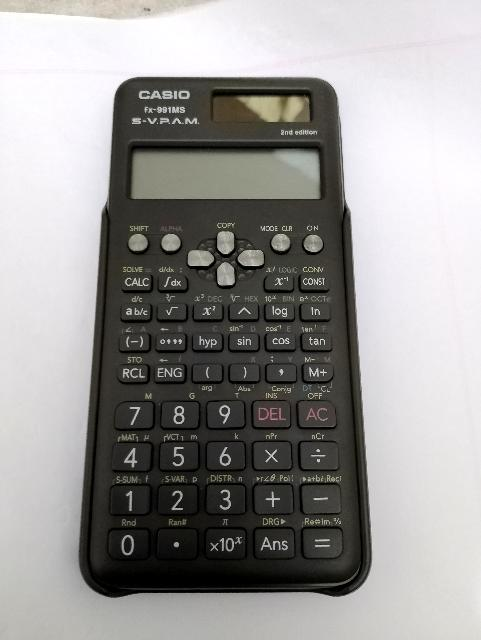hardplastic: (61, 62, 389, 600)
